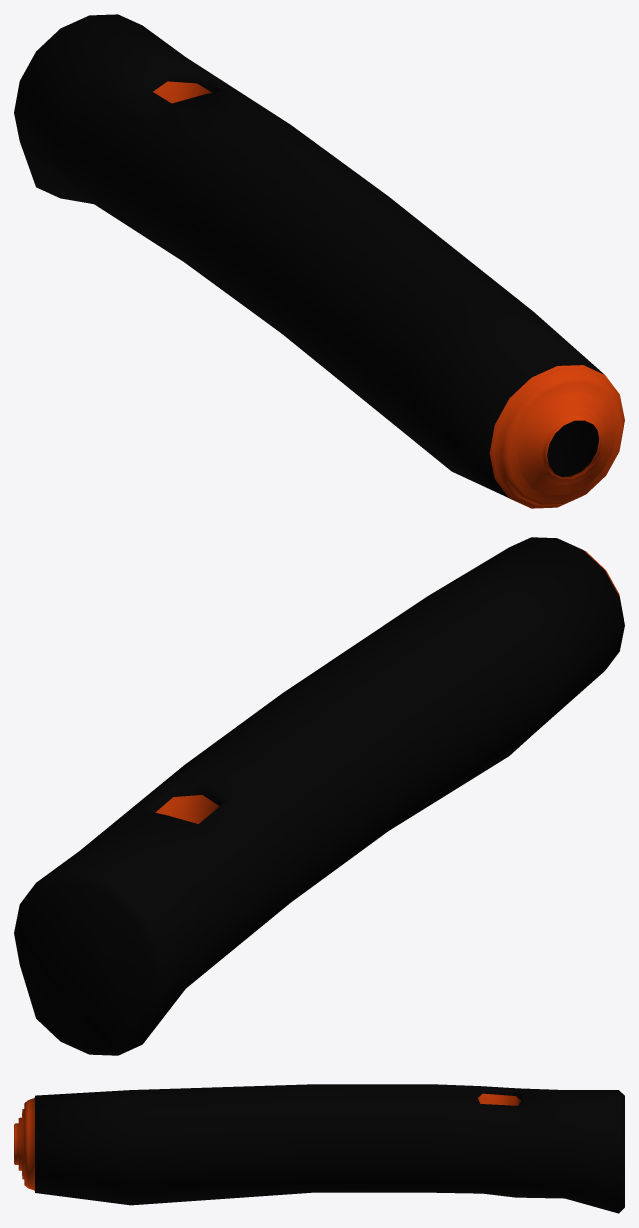
The model's file is Bruh.fbx.
The picture shows the model from 3 angles, top to bottom: view 1: azimuth 30°, elevation 25°; view 2: azimuth 150°, elevation 25°; view 3: azimuth 270°, elevation 25°; orthographic projection. The views are drawn at different scales.
Parts seen in each view (by area): view 1: Cylinder.003; view 2: Cylinder.003; view 3: Cylinder.003.
Part boxes in pixels (x1,y1,x2,y2): Cylinder.003: (14, 14, 624, 508); Cylinder.003: (14, 537, 624, 1055); Cylinder.003: (14, 1084, 624, 1213).
Size of the model in its own units: 15.65 by 18.97 by 88.06.
